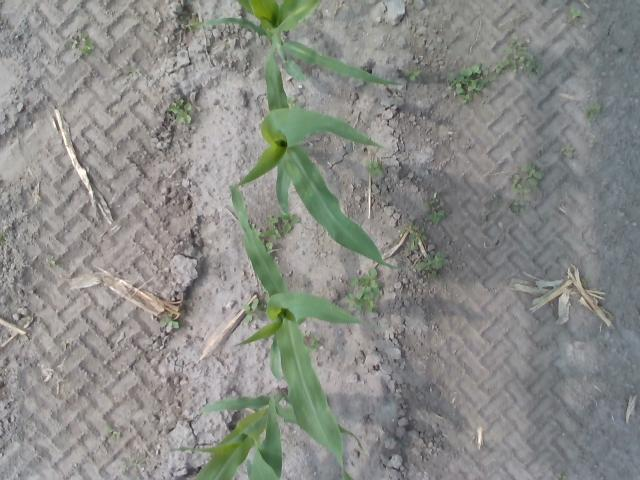Maize: (235, 44, 406, 272), (230, 186, 362, 480), (177, 0, 400, 86), (168, 387, 363, 480)
Weeds: (444, 65, 488, 104), (496, 45, 538, 74), (352, 268, 380, 304), (169, 100, 193, 123), (260, 218, 286, 238), (419, 255, 445, 272), (244, 298, 259, 322), (522, 166, 540, 184), (163, 316, 180, 334), (78, 39, 95, 56), (282, 216, 302, 230), (426, 209, 447, 222), (366, 160, 382, 176), (582, 102, 600, 114), (514, 201, 532, 212), (517, 184, 533, 196), (306, 335, 321, 347), (406, 70, 422, 80), (571, 8, 581, 22)
